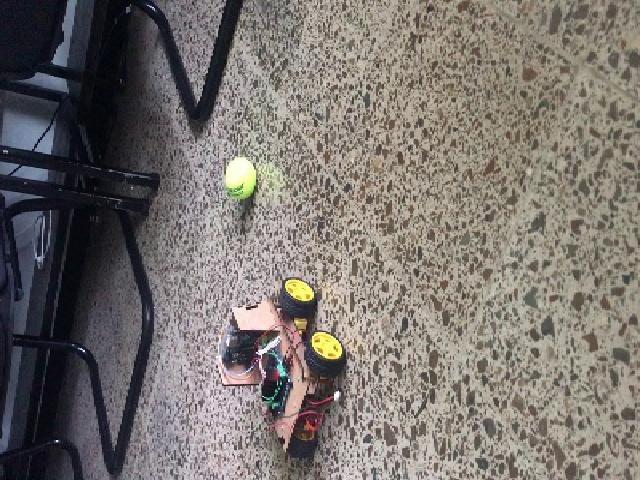Ball: (219, 158, 258, 200)
Robot: (214, 278, 346, 458)
